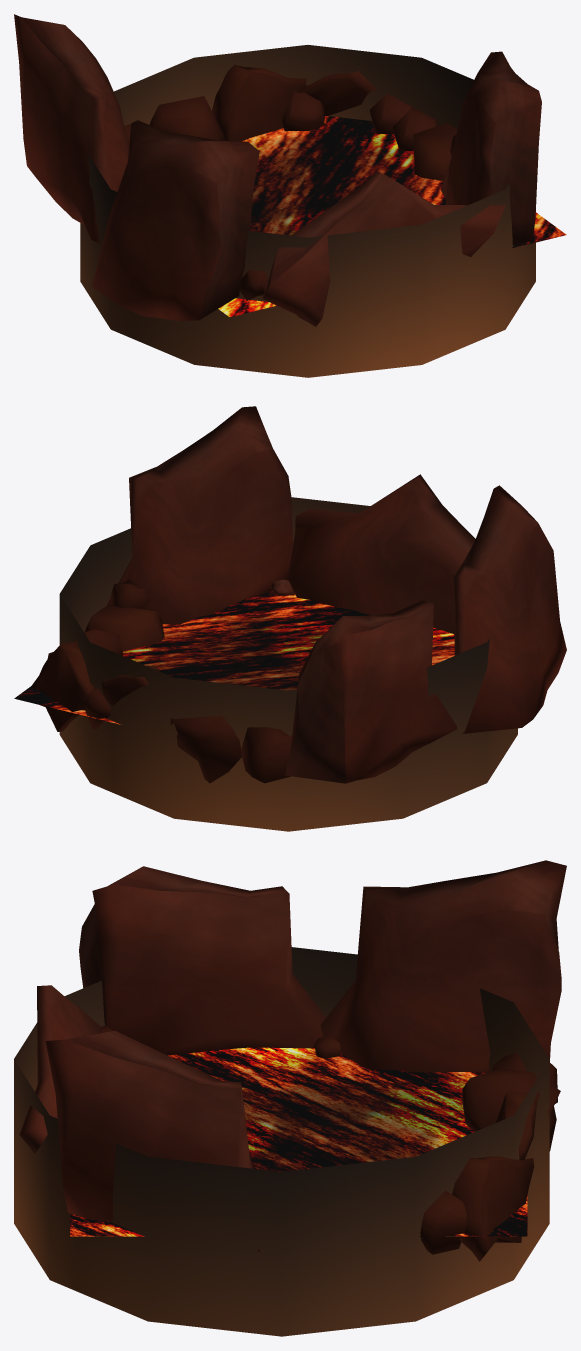
Rendered from map.fbx.
3 views of the same model, one above another, from view 1: azimuth 30°, elevation 25°; view 2: azimuth 150°, elevation 25°; view 3: azimuth 270°, elevation 25° (orthographic). The views are drawn at different scales.
Visible parts, largest first — view 1: pCylinder2; view 2: pCylinder2; view 3: pCylinder2.
Boxes of the visible parts, box(x1,y1,x2,y2) form: pCylinder2: box(14, 14, 566, 377); pCylinder2: box(14, 406, 566, 831); pCylinder2: box(14, 860, 566, 1336).
Bounding box in the file's own units: 375 × 194 × 363.
Materials: 4 (4 with a texture image).
